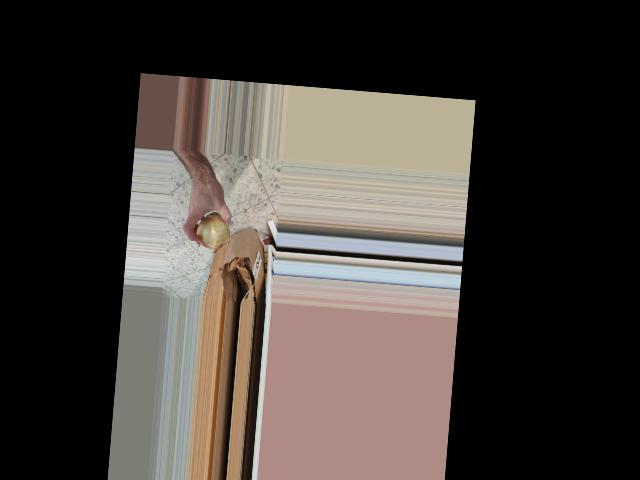onion: (193, 210, 233, 254)
